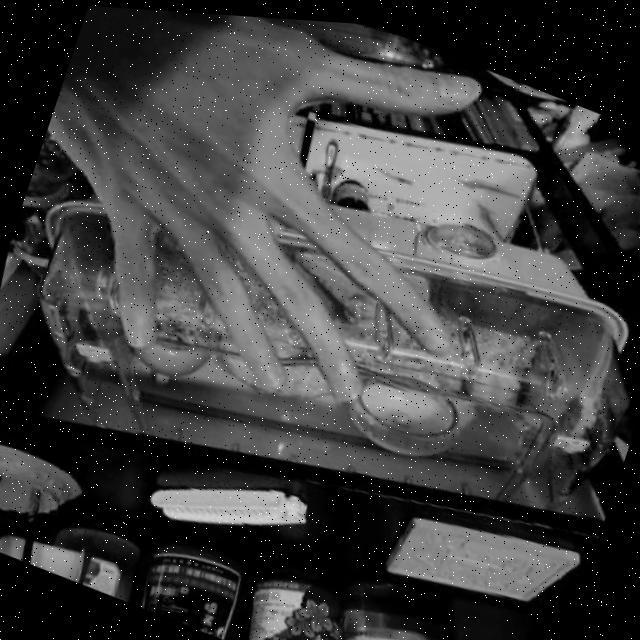no-gloves: (12, 1, 536, 456)
